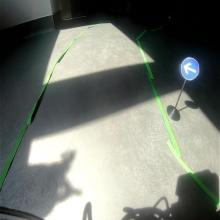left: (180, 56, 199, 81)
